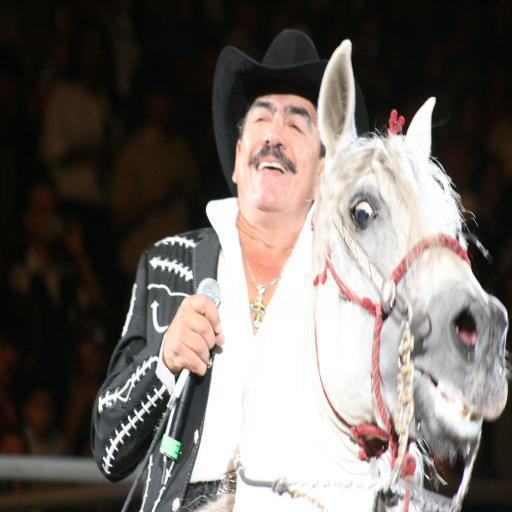horse: (182, 38, 512, 512)
